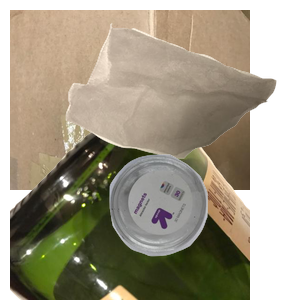cardboard: (10, 10, 250, 190)
glass: (10, 120, 250, 300)
plastic: (107, 152, 300, 300)
trash: (63, 21, 300, 172)
